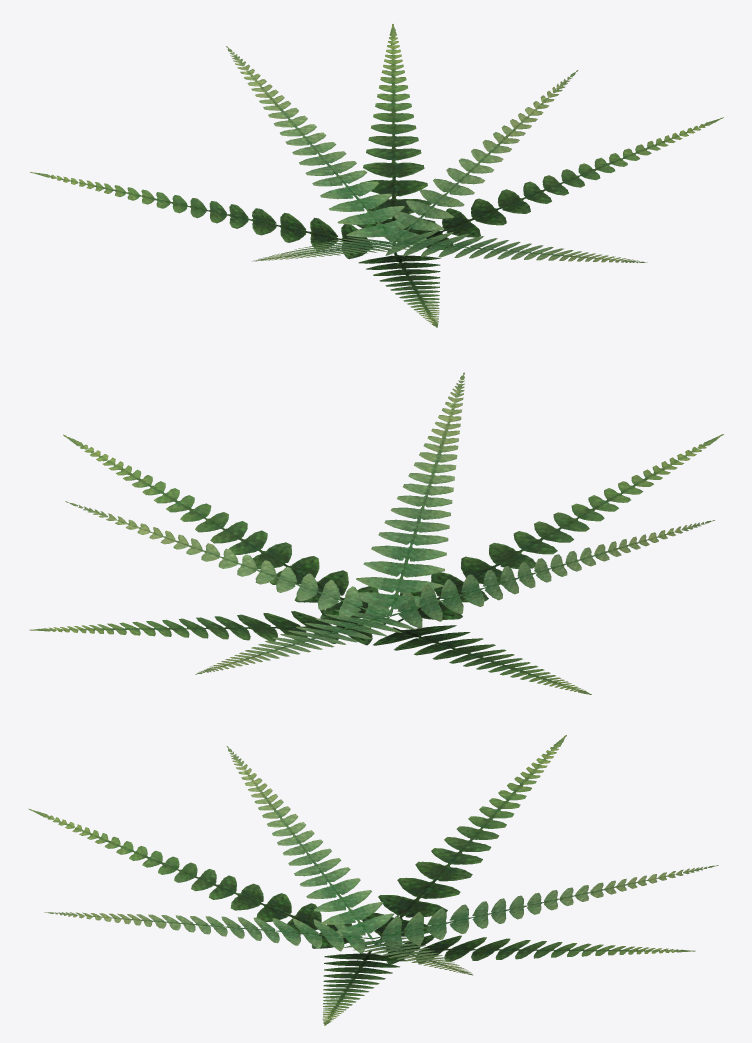
File: frst_fern_green_l1.fbx
The picture shows the model from 3 angles, top to bottom: view 1: azimuth 30°, elevation 25°; view 2: azimuth 150°, elevation 25°; view 3: azimuth 270°, elevation 25°; orthographic projection. The views are drawn at different scales.
Parts seen in each view (by area): view 1: mesh_node; view 2: mesh_node; view 3: mesh_node.
Part boxes in pixels (<box>): mesh_node: <box>30,24,723,327</box>; mesh_node: <box>29,372,723,694</box>; mesh_node: <box>28,735,718,1025</box>.
Bounding box in the file's own units: 2.41 × 0.375 × 2.44.
